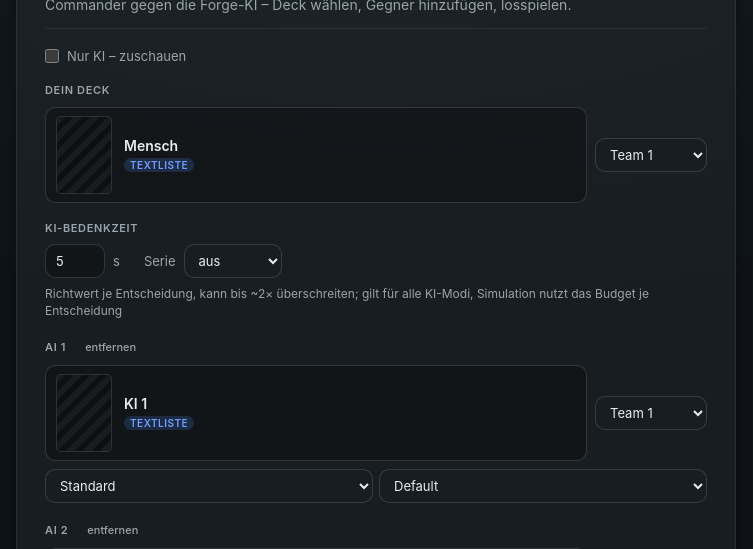
Test: Lobby: Teams › Zuschauer-Modus an: der menschliche Sitz und sein Team verschwinden aus der Nachricht, danach sind sie wieder da
The width and height of the screenshot is (753, 549).
Click the checkbox labelled "Nur KI – zuschauen". click: (52, 56)
box: left=45, top=49, right=59, bottom=63
(page scrolled)
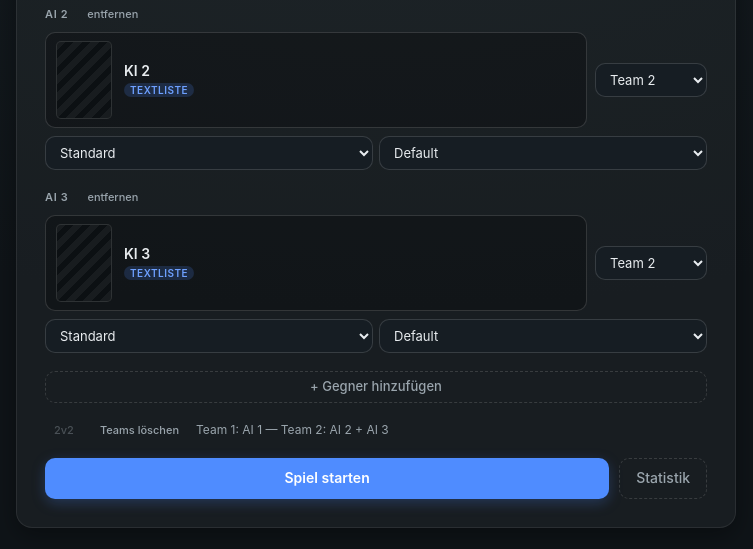
Expected: the text "Team 1: AI 1 — Team 2: AI 2 + AI 3" is shown, left=196, top=422, right=389, bottom=439
Click the button "Spiel starten". click: (327, 478)
box: left=45, top=458, right=609, bottom=499
(page scrolled)
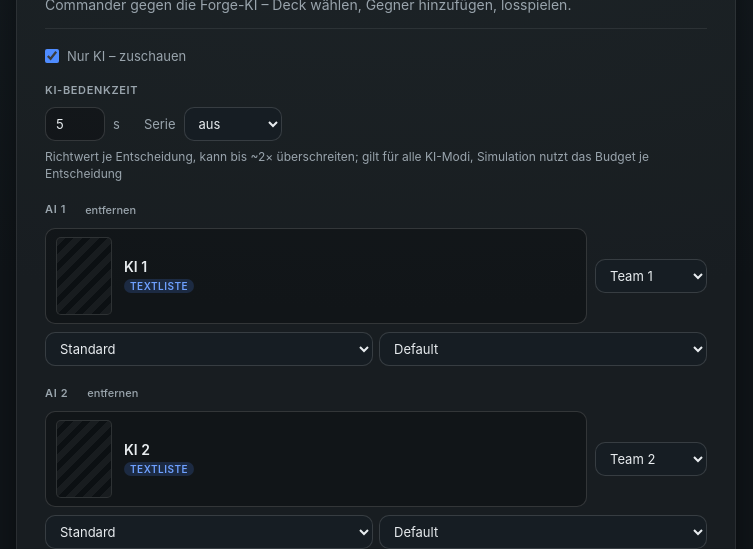
Click the checkbox labelled "Nur KI – zuschauen". click: (52, 56)
box: left=45, top=49, right=59, bottom=63
(page scrolled)
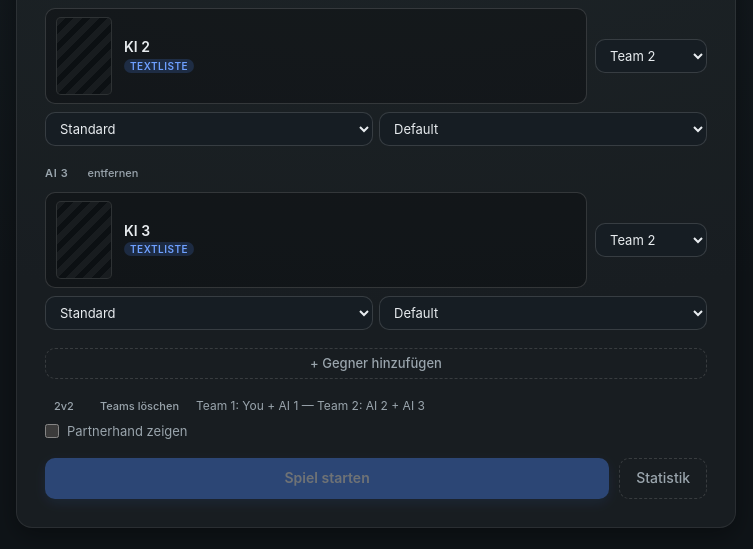
Expected: the text "Team 1: You + AI 1 — Team 2: AI 2 + AI 3" is shown, left=196, top=398, right=425, bottom=415
